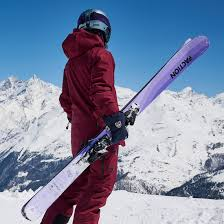skis: (19, 35, 210, 220)
